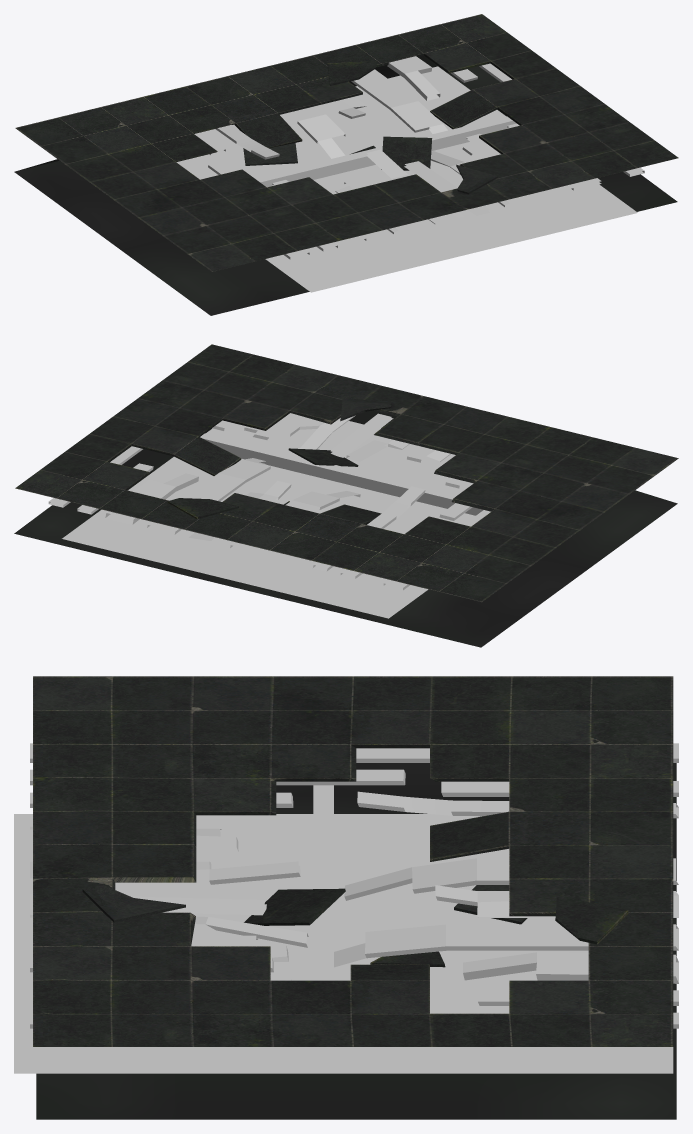
Rendered from urban_damaged_hole_floor.dae.
3 renders of one model, top to bottom at view 1: azimuth 30°, elevation 25°; view 2: azimuth 150°, elevation 25°; view 3: azimuth 270°, elevation 25°, orthographic. The views are drawn at different scales.
Visible parts, largest first — view 1: polySurface302, polySurface734, polySurface303; view 2: polySurface302, polySurface734, polySurface303; view 3: polySurface302, polySurface734, polySurface303.
Part boxes in pixels (x1,y1,x2,y2): polySurface302: (14, 14, 678, 315); polySurface734: (184, 66, 637, 292); polySurface303: (176, 56, 644, 259); polySurface302: (14, 344, 678, 647); polySurface734: (62, 421, 475, 618); polySurface303: (48, 413, 490, 590); polySurface302: (33, 676, 676, 1119); polySurface734: (14, 814, 673, 1073); polySurface303: (30, 743, 678, 1028).
Size of the model in its own units: 5.48 by 0.5461 by 4.15.
